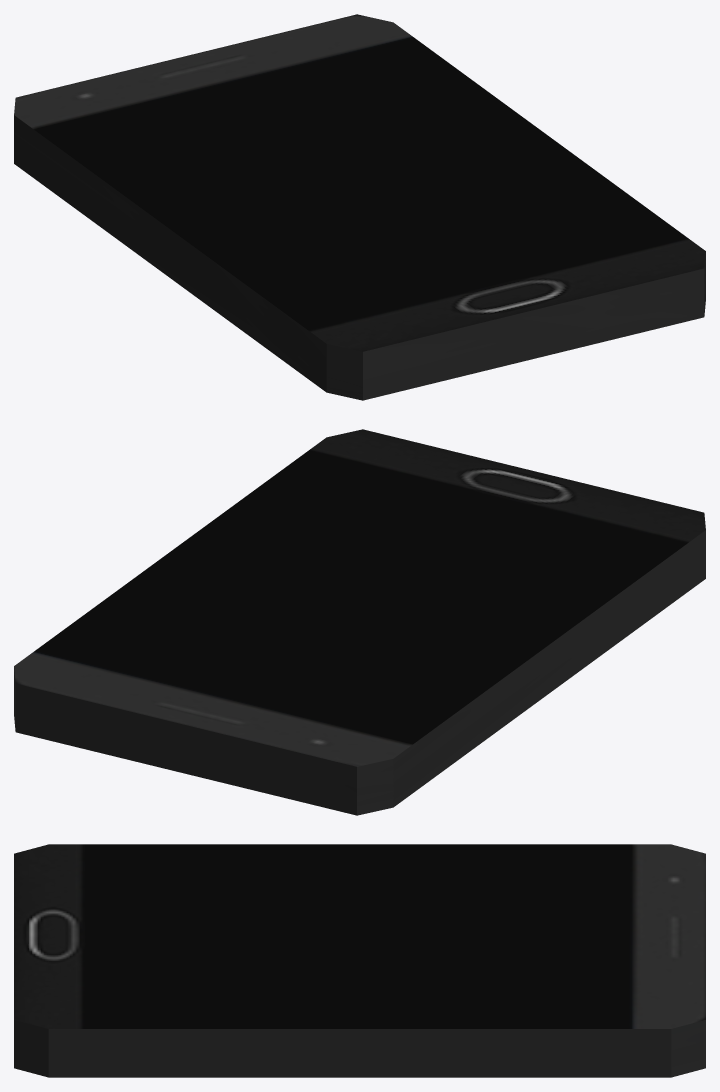
File: Phone.fbx
3 views of the same model, one above another, from view 1: azimuth 30°, elevation 25°; view 2: azimuth 150°, elevation 25°; view 3: azimuth 270°, elevation 25° (orthographic).
Parts seen in each view (by area): view 1: Cube; view 2: Cube; view 3: Cube.
Boxes of the visible parts, x1=… form: Cube: x1=14, y1=14, x2=705, y2=400; Cube: x1=14, y1=429, x2=705, y2=815; Cube: x1=14, y1=844, x2=705, y2=1077.
Bounding box in the file's own units: 67.49 × 8.3 × 107.
